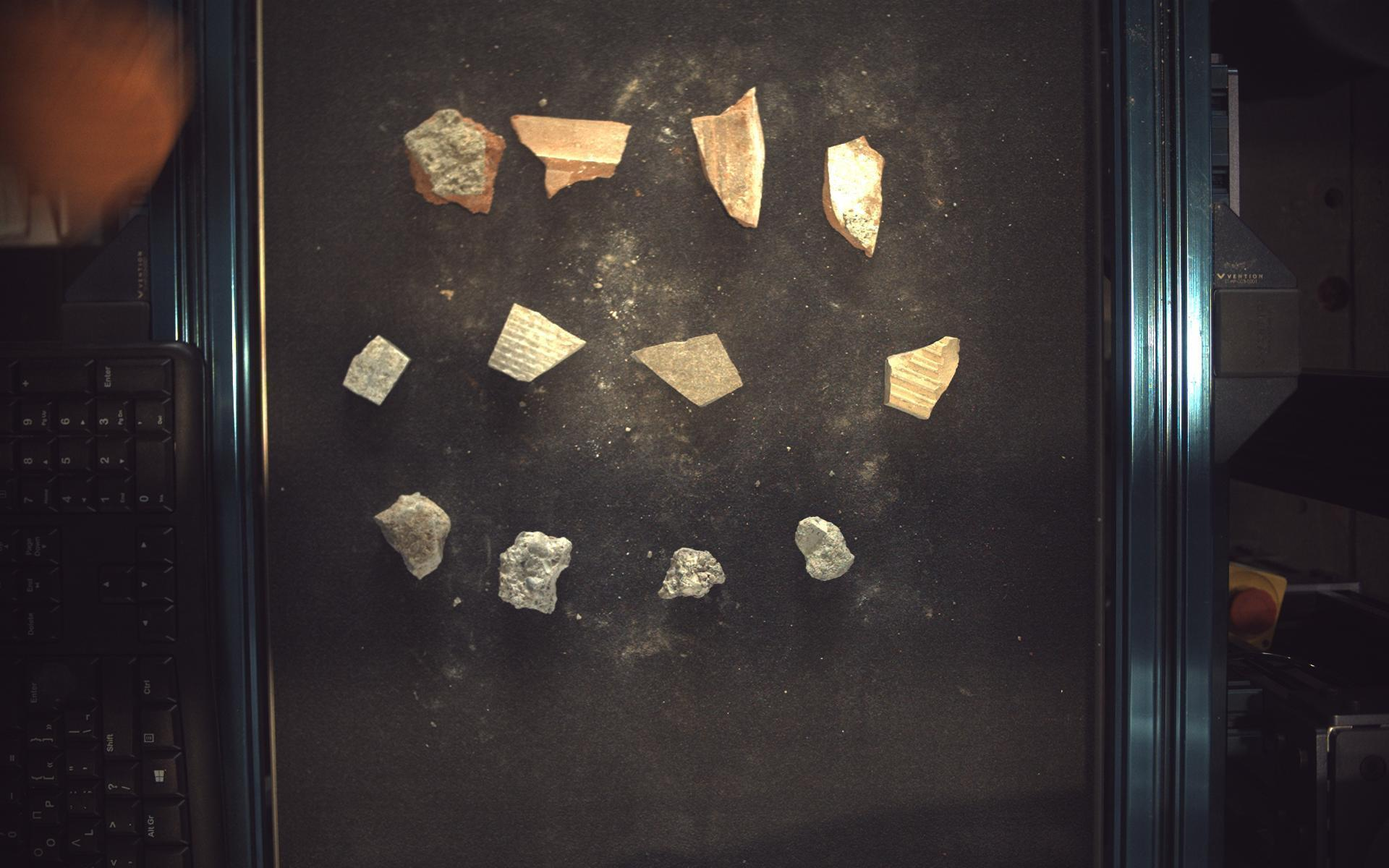brick: (404, 108, 506, 213), (692, 87, 766, 226), (511, 114, 632, 197), (823, 136, 886, 257)
concrete: (374, 493, 451, 580), (499, 532, 573, 614), (797, 516, 856, 582), (659, 548, 727, 600)
tile: (633, 333, 744, 407), (489, 303, 586, 381), (886, 336, 962, 420), (342, 335, 410, 405)
